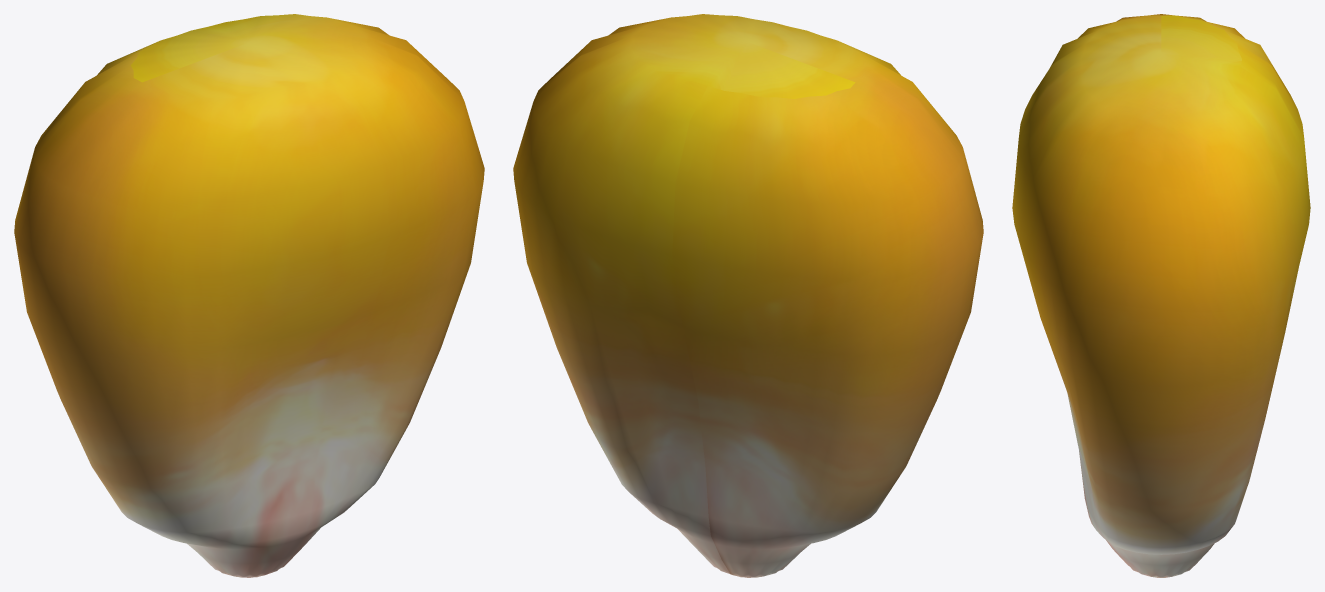
File: Corn_seed.fbx
3 renders of one model, left to right at view 1: azimuth 30°, elevation 25°; view 2: azimuth 150°, elevation 25°; view 3: azimuth 270°, elevation 25°, orthographic. The views are drawn at different scales.
Visible parts, largest first — view 1: pCylinder5; view 2: pCylinder5; view 3: pCylinder5.
Boxes of the visible parts, left/top/right/bottom form: pCylinder5: left=14, top=14, right=484, bottom=577; pCylinder5: left=513, top=14, right=983, bottom=577; pCylinder5: left=1012, top=14, right=1310, bottom=577.
Bounding box in the file's own units: 2.8 × 3.2 × 1.68.
